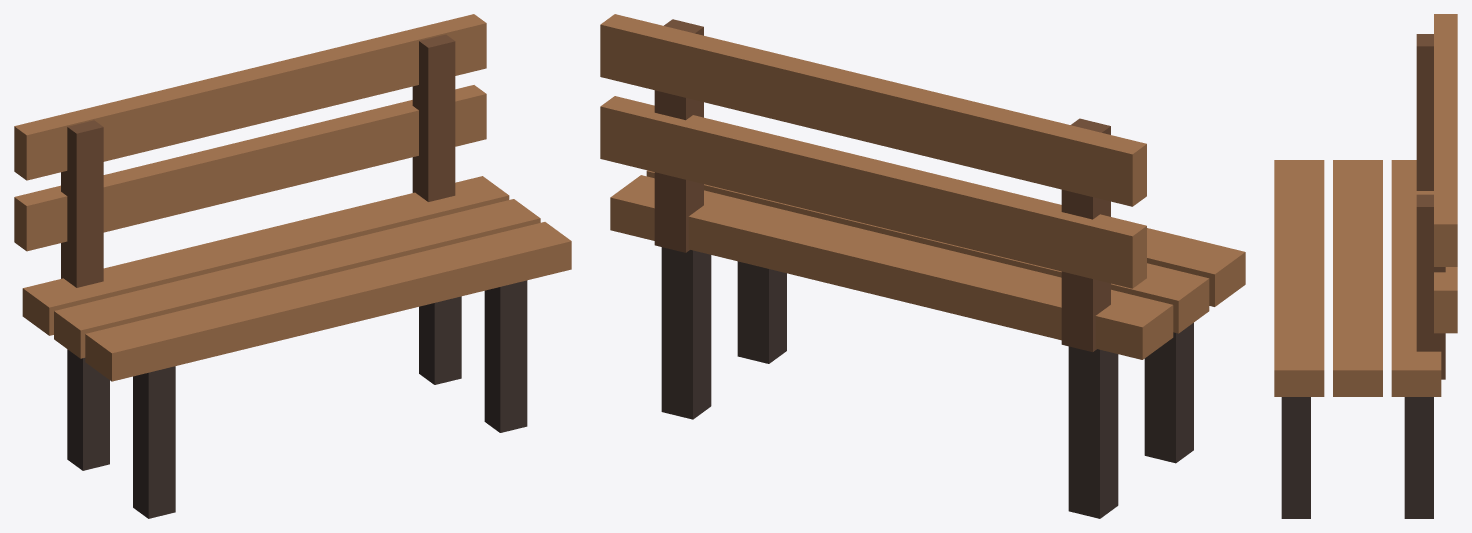
The model's file is lavicka.glb.
The picture shows the model from 3 angles, left to right: view 1: azimuth 30°, elevation 25°; view 2: azimuth 150°, elevation 25°; view 3: azimuth 270°, elevation 25°; orthographic projection. The views are drawn at different scales.
Parts seen in each view (by area): view 1: material_ad7950, material_483b36, material_785239; view 2: material_ad7950, material_483b36, material_785239; view 3: material_ad7950, material_483b36, material_785239.
Part boxes in pixels (x1,y1,x2,y2): material_ad7950: [14, 14, 571, 381]; material_483b36: [67, 280, 527, 518]; material_785239: [61, 34, 455, 287]; material_ad7950: [600, 14, 1245, 359]; material_483b36: [661, 247, 1193, 518]; material_785239: [654, 19, 1110, 352]; material_ad7950: [1274, 14, 1457, 396]; material_483b36: [1281, 397, 1433, 518]; material_785239: [1416, 34, 1445, 379].
Bounding box in the file's own units: 1.7 × 1.18 × 0.625.
